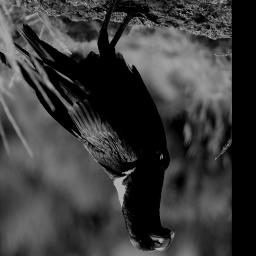Crow: (13, 0, 180, 256)
